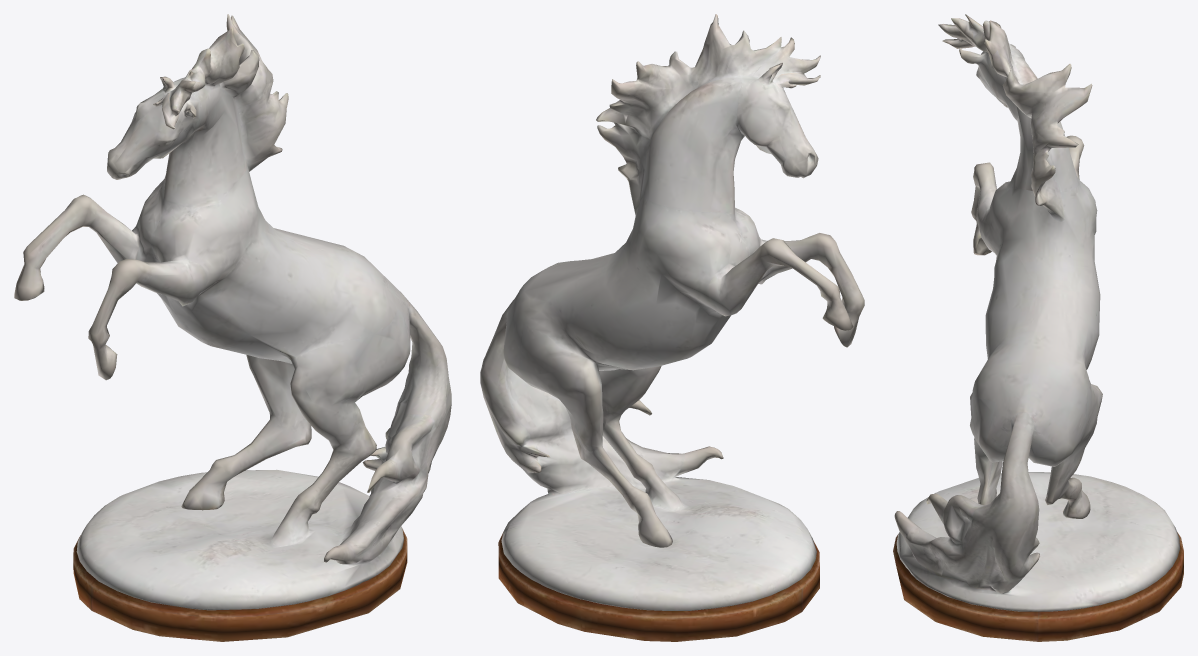
The model's file is horse_statue_01.glb.
3 views of the same model, side by side, from view 1: azimuth 30°, elevation 25°; view 2: azimuth 150°, elevation 25°; view 3: azimuth 270°, elevation 25° (orthographic). The views are drawn at different scales.
Visible parts, largest first — view 1: horse_statue_01; view 2: horse_statue_01; view 3: horse_statue_01.
Boxes of the visible parts, <box> form: horse_statue_01: <box>14,14,451,641</box>; horse_statue_01: <box>480,14,864,641</box>; horse_statue_01: <box>893,14,1183,641</box>.
Size of the model in its own units: 0.163 by 0.22 by 0.1078.
1 material, 1 textured.
